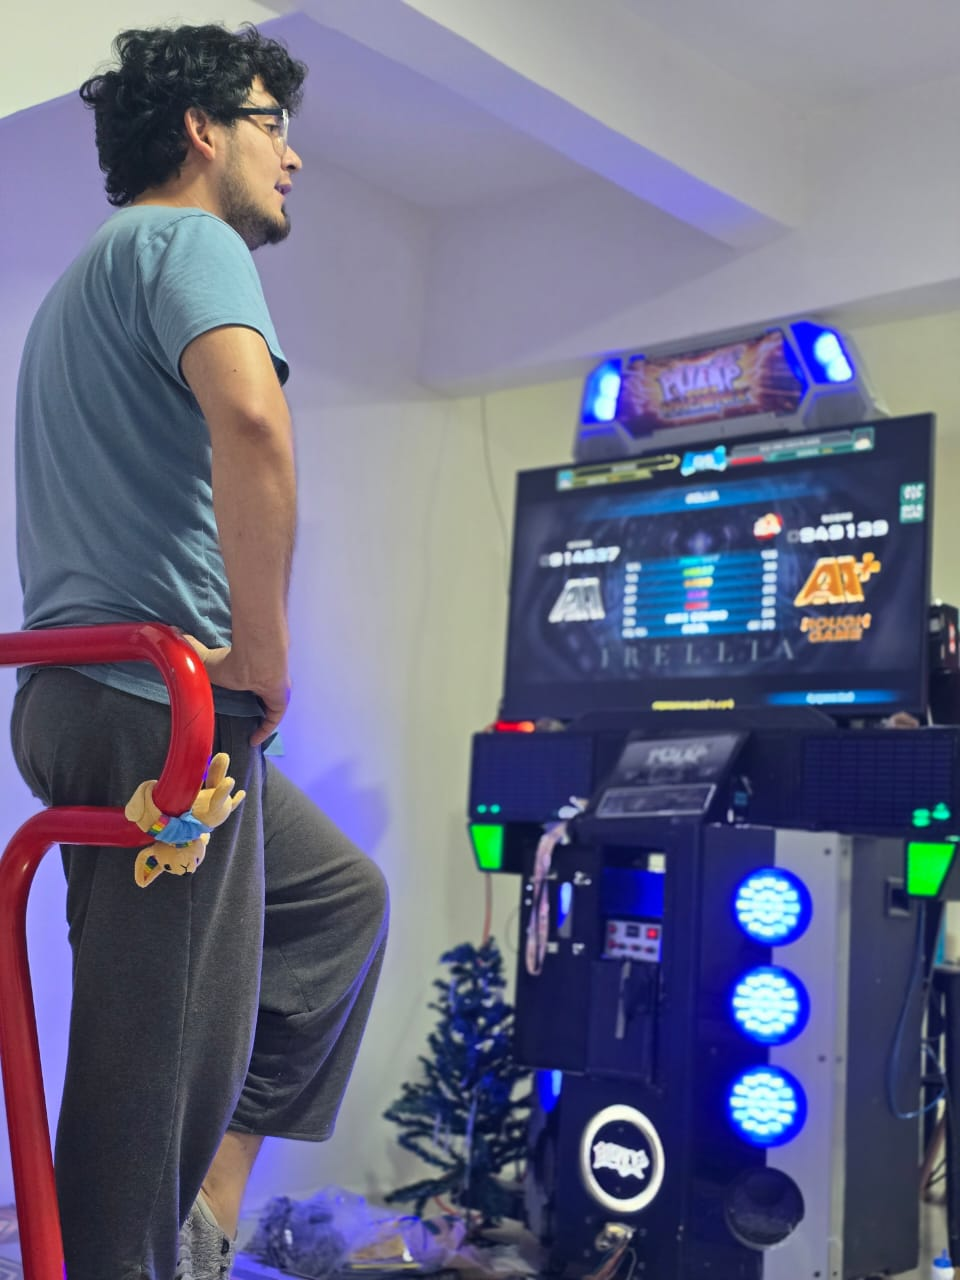difficulty: (748, 504, 782, 544)
fullscore: (664, 407, 941, 725)
rank: (791, 559, 896, 619)
score: (785, 515, 896, 544)
song_name: (629, 490, 729, 528)
